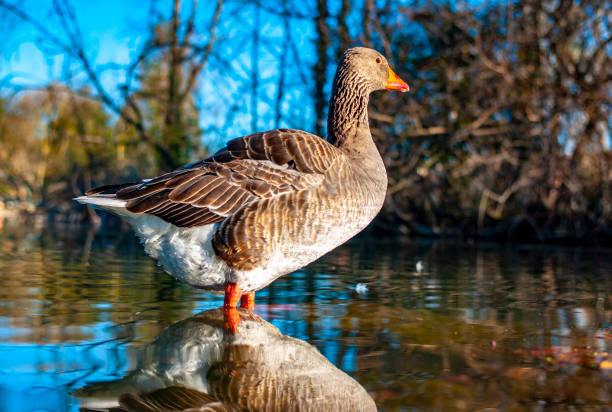goose: (63, 40, 419, 349)
